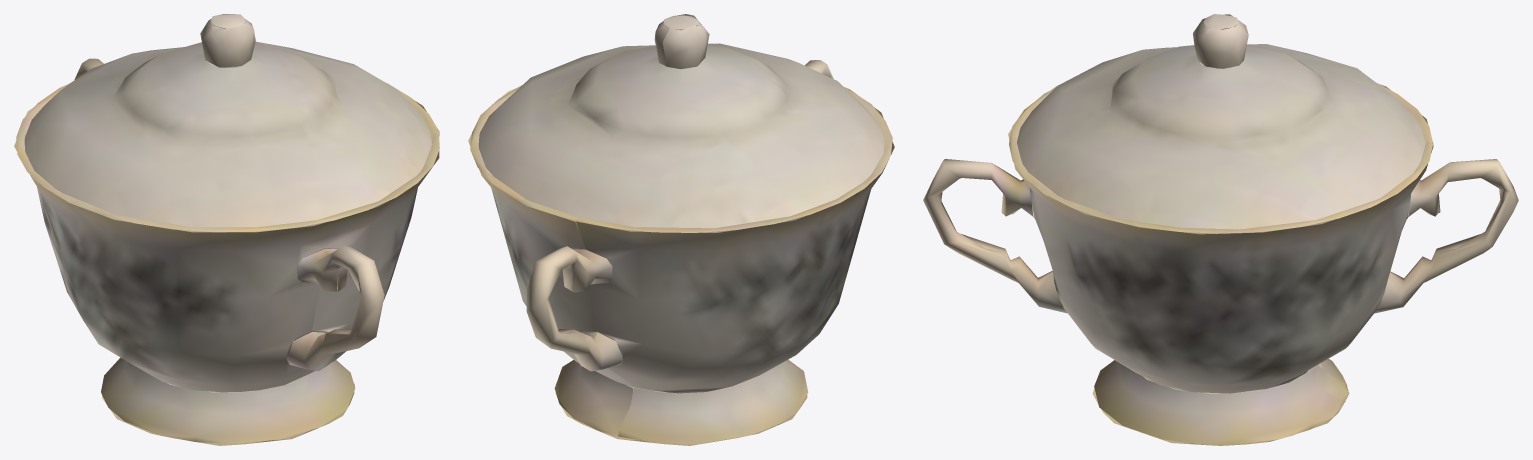
File: sugarcup.glb
3 renders of one model, left to right at view 1: azimuth 30°, elevation 25°; view 2: azimuth 150°, elevation 25°; view 3: azimuth 270°, elevation 25°, orthographic.
Parts seen in each view (by area): view 1: tea_set_01_sugar_cup_01; view 2: tea_set_01_sugar_cup_01; view 3: tea_set_01_sugar_cup_01.
Part boxes in pixels (x1,y1,x2,y2): tea_set_01_sugar_cup_01: (14,14,439,445); tea_set_01_sugar_cup_01: (468,14,894,445); tea_set_01_sugar_cup_01: (923,14,1518,445).
Bounding box in the file's own units: 0.1022 × 0.1004 × 0.1428.
1 material, 1 textured.
